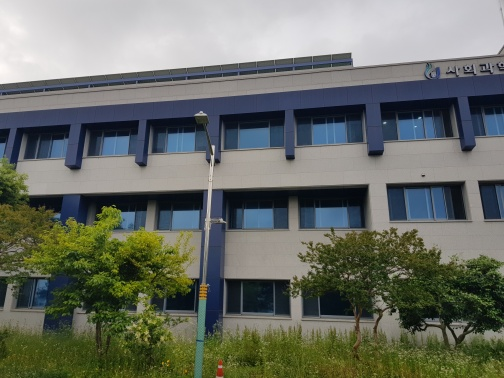College of Social Sciences: (13, 36, 503, 331)
